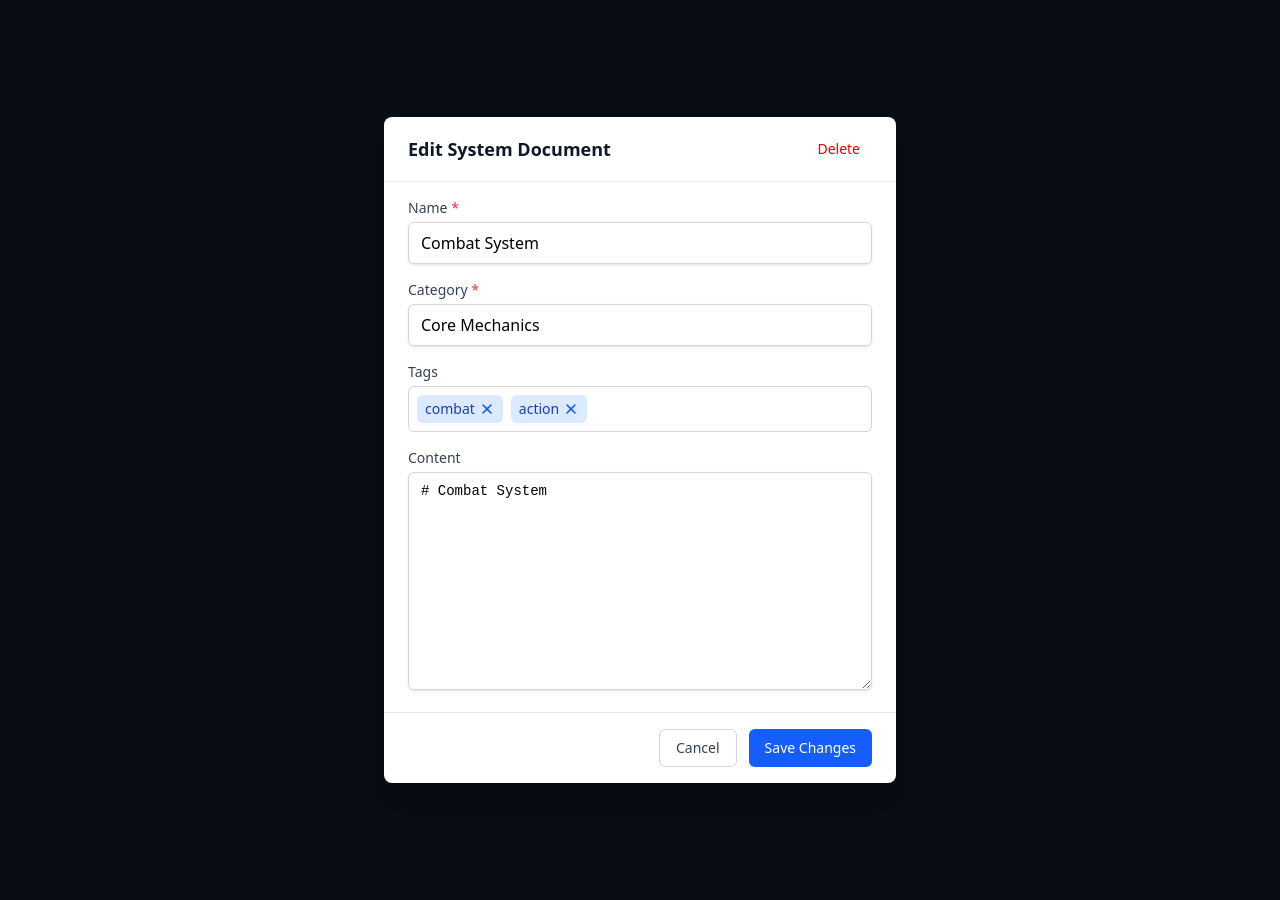
Test case: SystemEditModal › Unsaved Changes › should show warning when closing with unsaved changes
Step 1. Replace the text in the field labelled "Name *" with "Modified Name" → coordinates (640, 243), box 408,222 -> 872,264
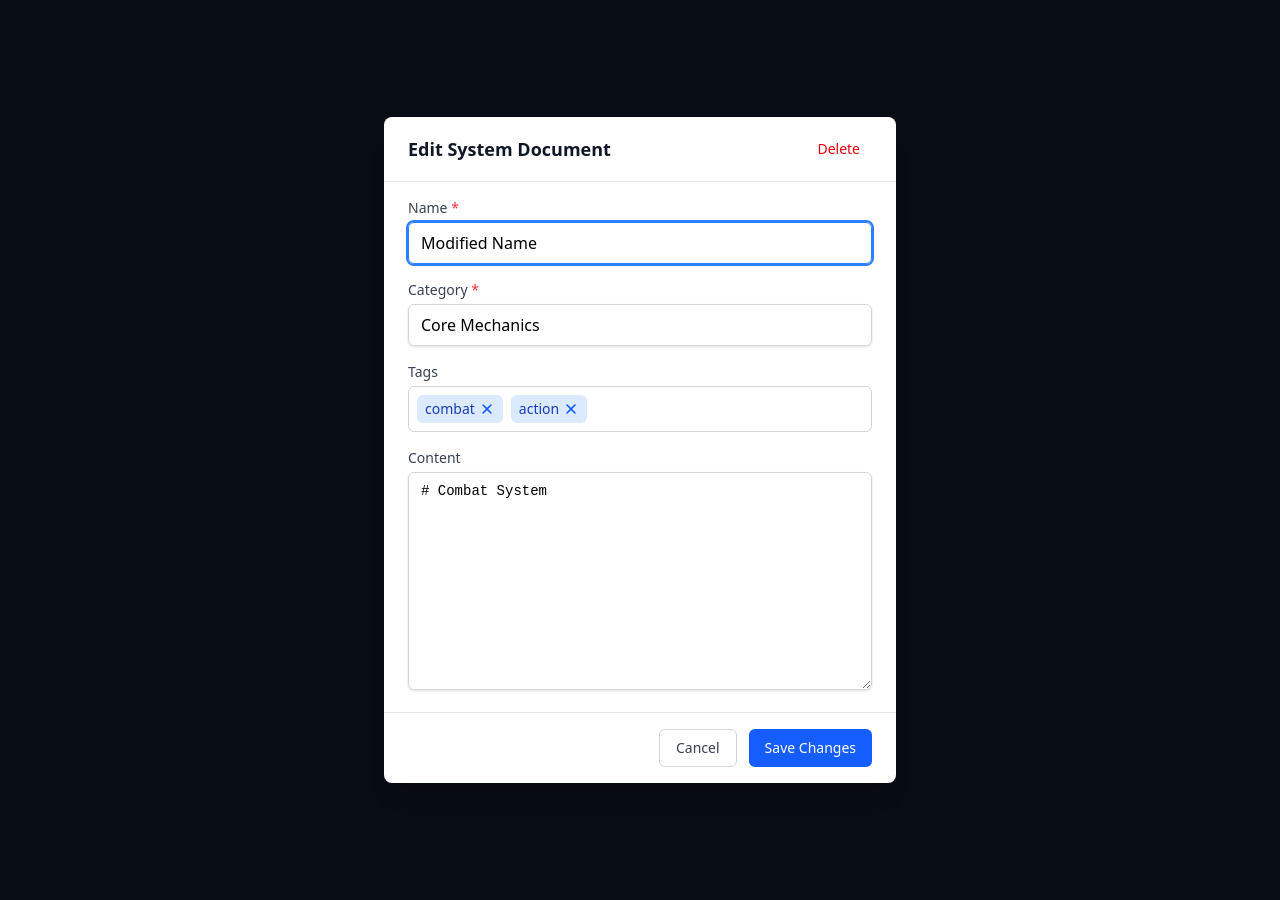
Step 2. Click the button "Cancel" → coordinates (698, 748), box 659,729 -> 737,767
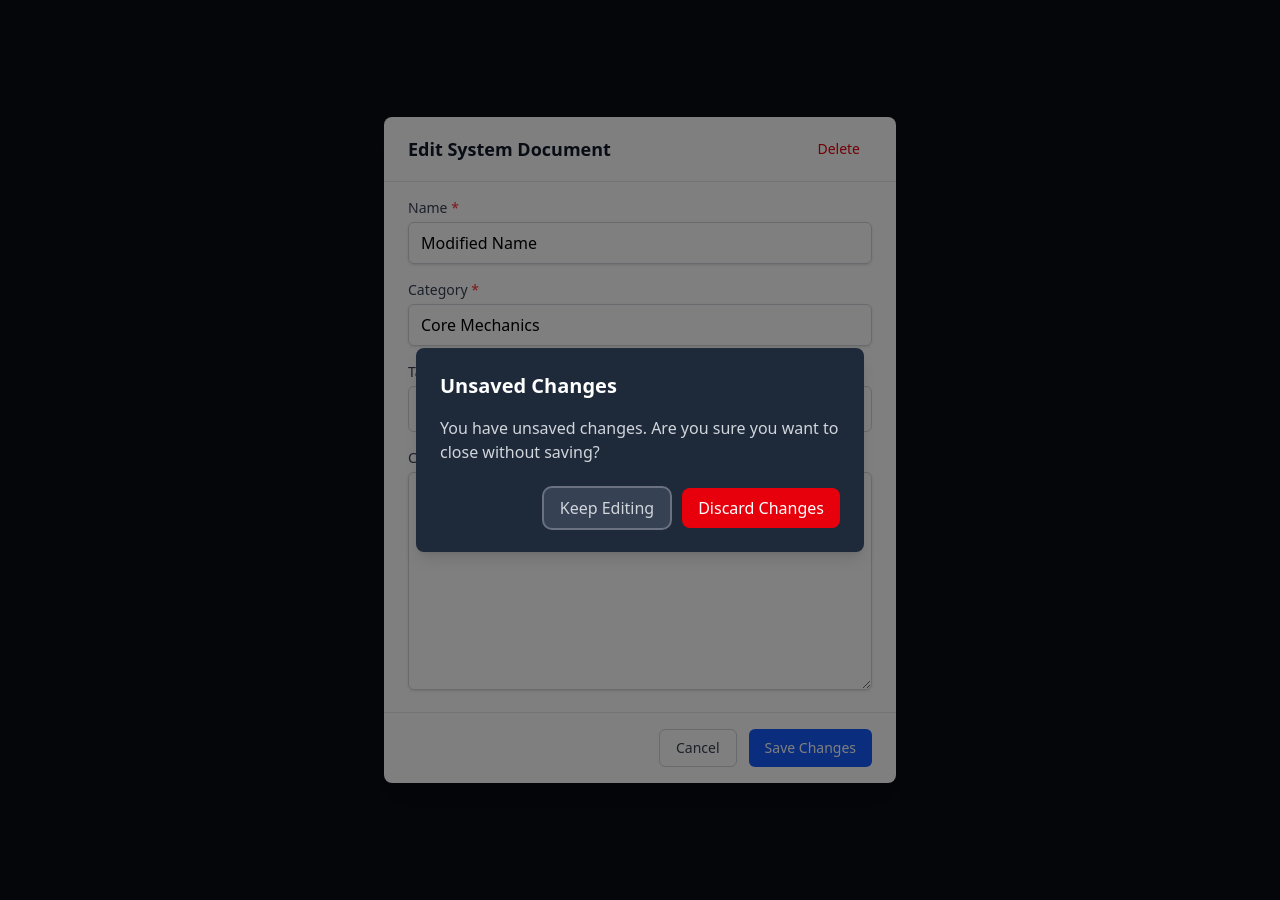
Expected: the heading "Unsaved Changes" is shown, 440,372 -> 617,399
